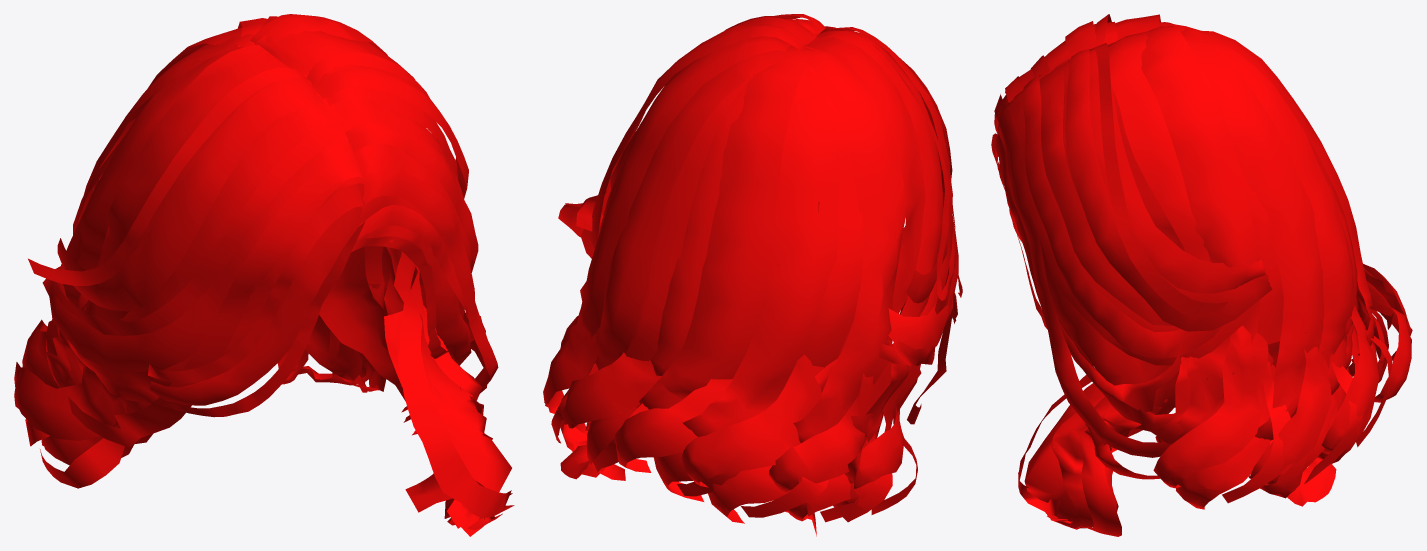
File: elvs_ashley_may_hair_M.glb
3 views of the same model, side by side, from view 1: azimuth 30°, elevation 25°; view 2: azimuth 150°, elevation 25°; view 3: azimuth 270°, elevation 25° (orthographic). The views are drawn at different scales.
Size of the model in its own units: 0.3089 by 0.3498 by 0.2964.
1 material, 1 textured.
